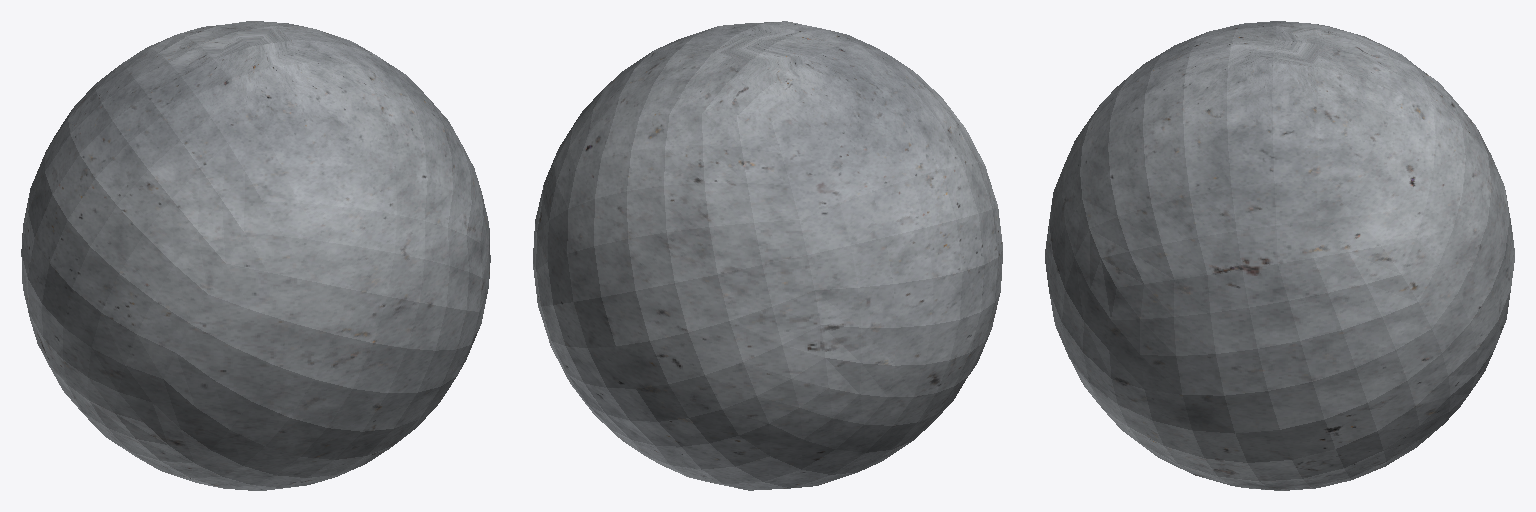
The picture shows the model from 3 angles: view 1: azimuth 30°, elevation 25°; view 2: azimuth 150°, elevation 25°; view 3: azimuth 270°, elevation 25°; orthographic projection.
Visible parts, largest first — view 1: Cube_Cube.001; view 2: Cube_Cube.001; view 3: Cube_Cube.001.
Part boxes in pixels (bbox=[...]): Cube_Cube.001: bbox=[21, 21, 490, 490]; Cube_Cube.001: bbox=[533, 21, 1002, 490]; Cube_Cube.001: bbox=[1045, 21, 1514, 490].
Size of the model in its own units: 3.44 by 3.46 by 3.46.
1 materials, 1 textured.